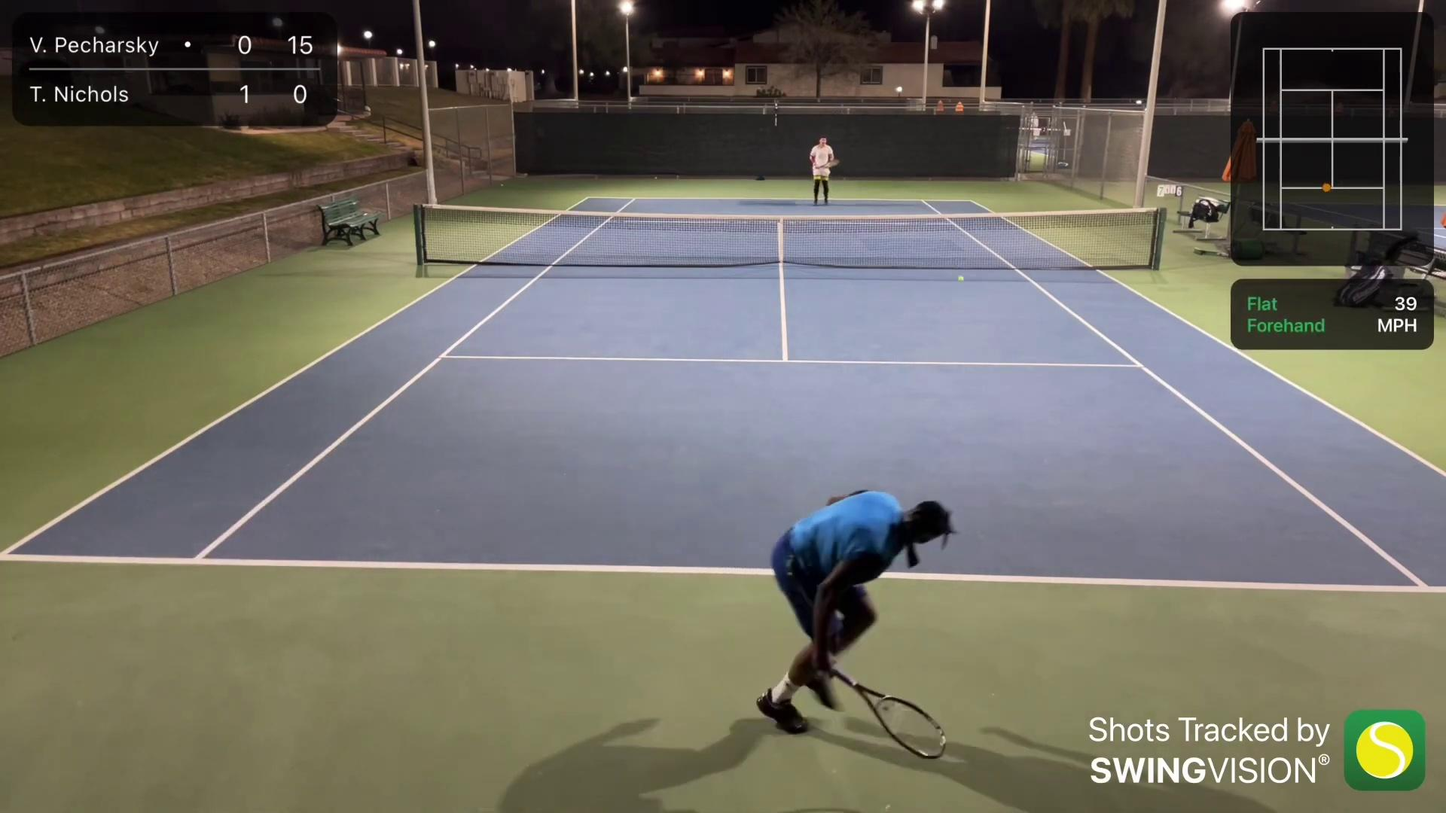ball: (961, 277, 966, 281)
